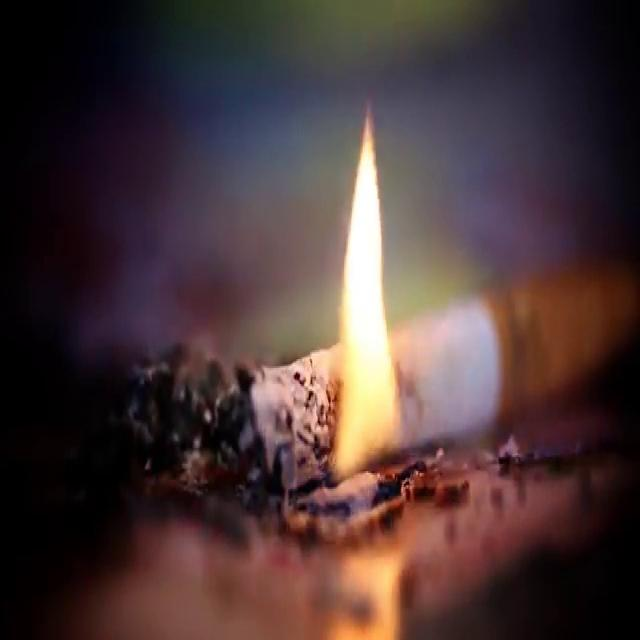fire: (318, 95, 406, 468)
